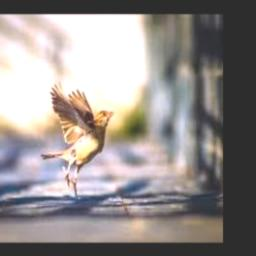Sparrow: (42, 81, 114, 199)
